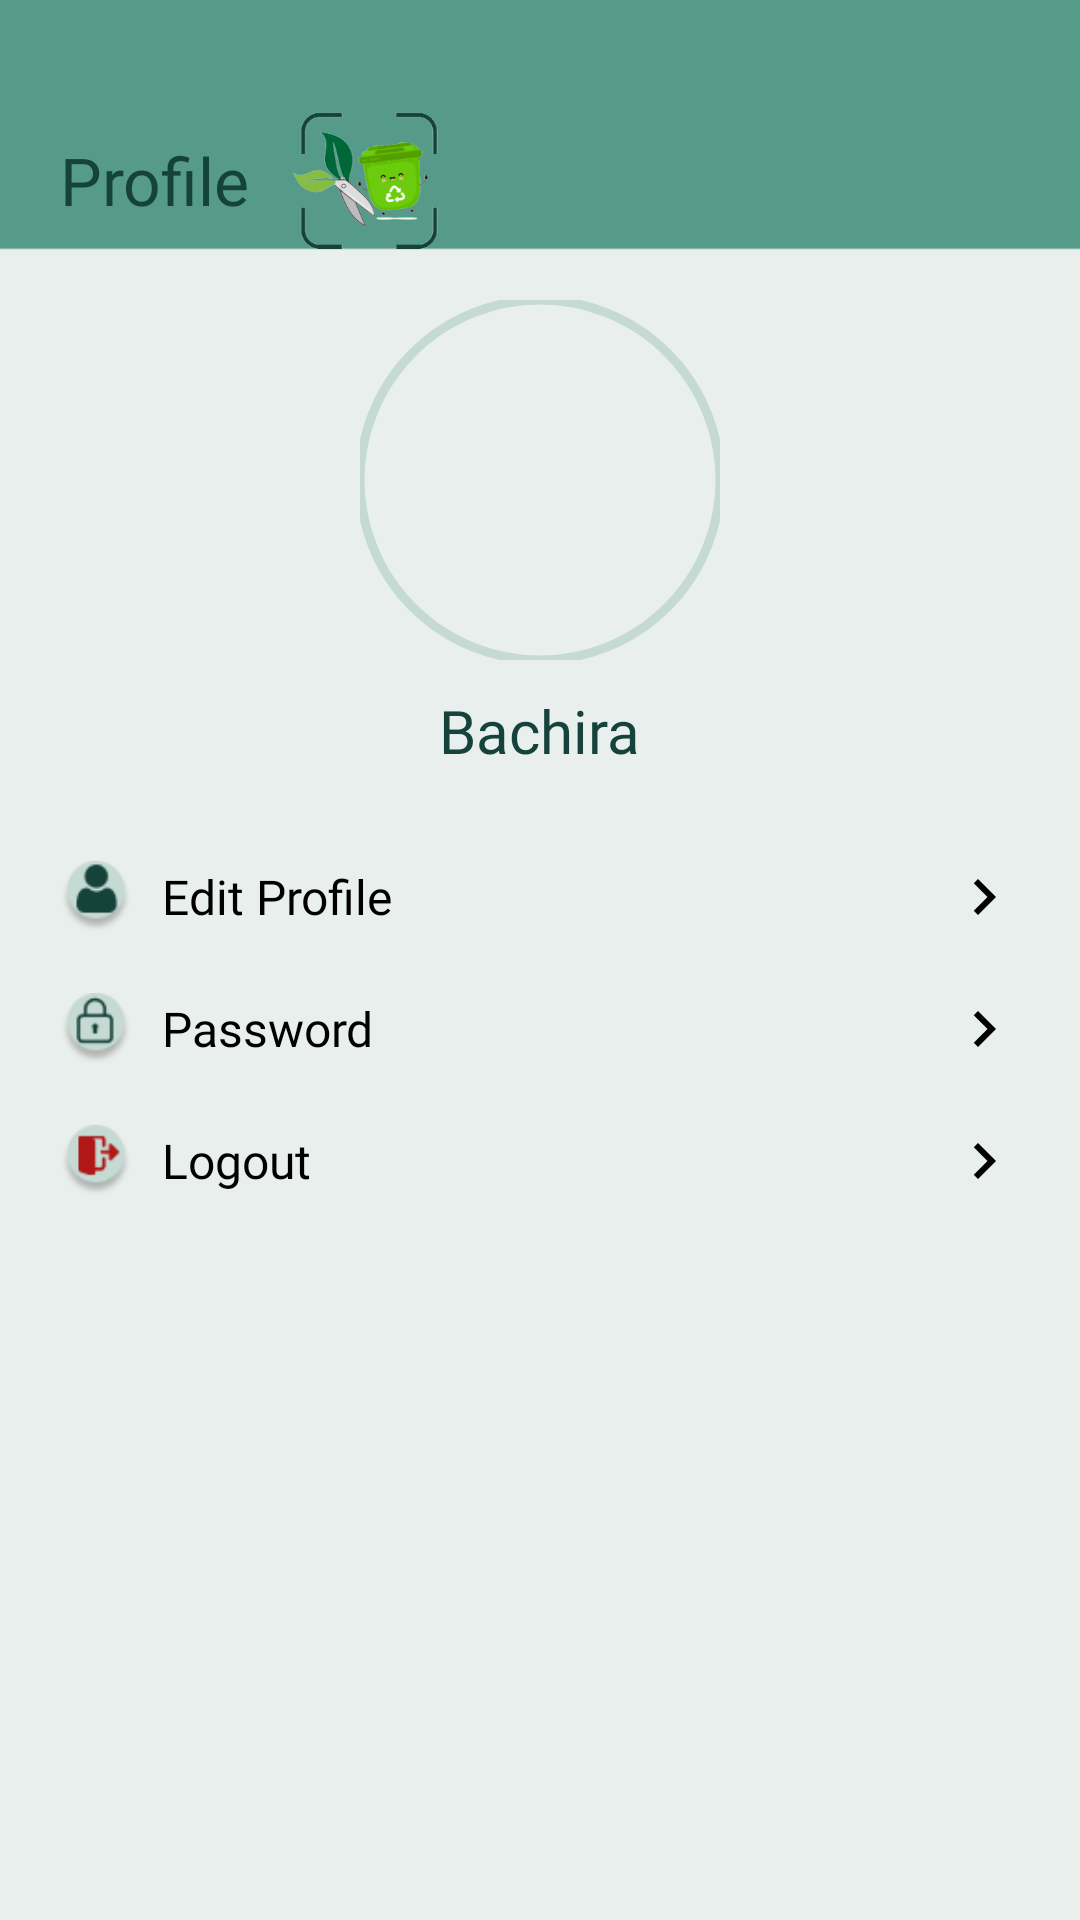

Screen size 1080 × 1920. Icon name, then its center in pixels as point (x, y):
navigate next: point (985, 897), point (985, 1029), point (985, 1161)
